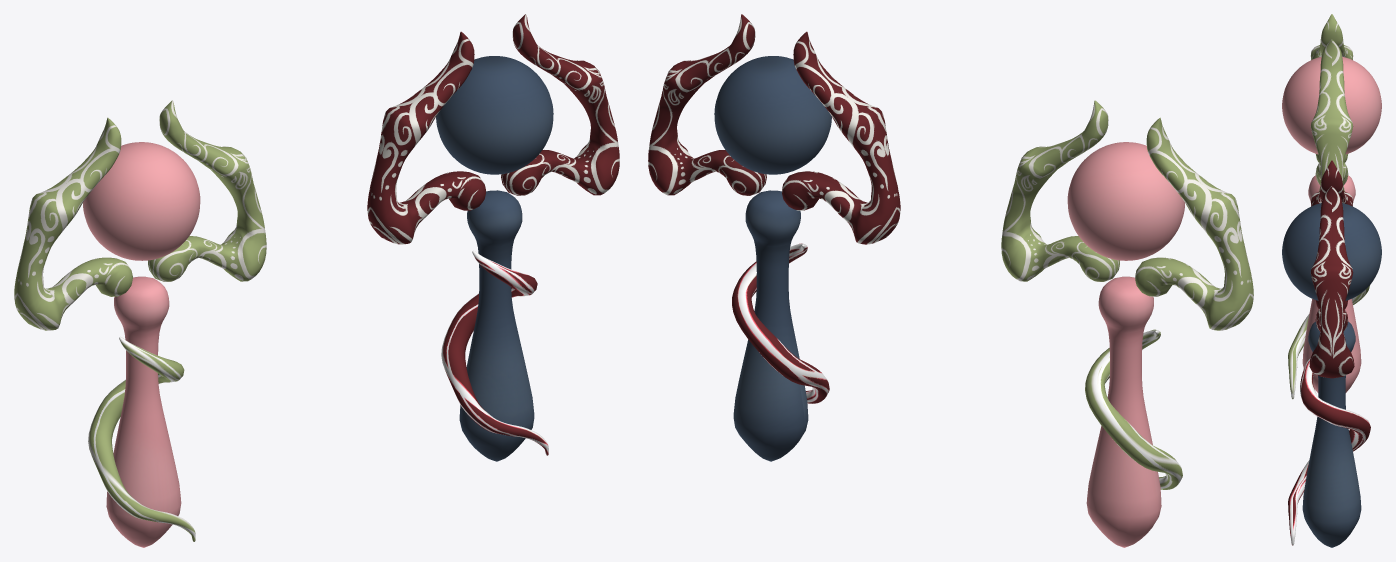
File: wands.fbx
The picture shows the model from 3 angles, left to right: view 1: azimuth 30°, elevation 25°; view 2: azimuth 150°, elevation 25°; view 3: azimuth 270°, elevation 25°; orthographic projection. The views are drawn at different scales.
Parts seen in each view (by area): view 1: orb (×2), point (×2), point_2 (×2), wand_penn, wand_paige, swirl (×2); view 2: orb (×2), point (×2), point_2 (×2), wand_penn, wand_paige, swirl (×2); view 3: orb (×2), point_2 (×2), wand_penn, swirl (×2), point (×2), wand_paige.
Boxes of the visible parts, <box> form: orb (×2): <box>83,56,553,260</box>; point (×2): <box>14,31,485,330</box>; point_2 (×2): <box>148,14,619,281</box>; wand_penn: <box>459,190,534,461</box>; wand_paige: <box>106,276,181,547</box>; swirl (×2): <box>88,250,548,541</box>; orb (×2): <box>714,56,1184,260</box>; point (×2): <box>782,31,1253,330</box>; point_2 (×2): <box>648,14,1119,281</box>; wand_penn: <box>733,190,808,461</box>; wand_paige: <box>1086,276,1161,547</box>; swirl (×2): <box>732,243,1182,489</box>; orb (×2): <box>1282,56,1381,300</box>; point_2 (×2): <box>1309,39,1354,378</box>; wand_penn: <box>1302,321,1361,547</box>; swirl (×2): <box>1288,285,1370,545</box>; point (×2): <box>1310,14,1353,308</box>; wand_paige: <box>1302,175,1361,392</box>.
Bounding box in the file's own units: 2.75 × 1.94 × 0.4685.
10 materials, 10 textured.
